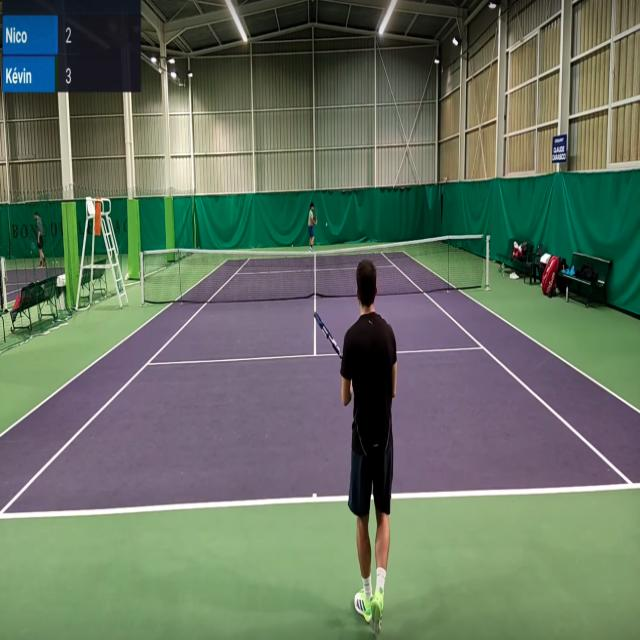ball: (325, 222, 328, 227), (292, 244, 294, 248)
